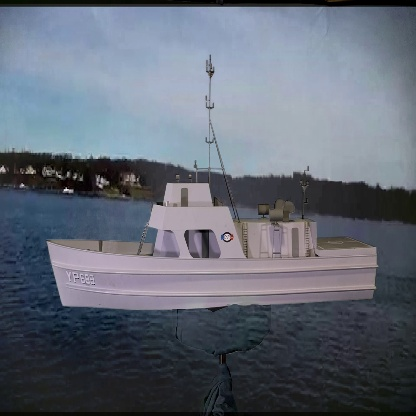YP689: (41, 49, 378, 311)
